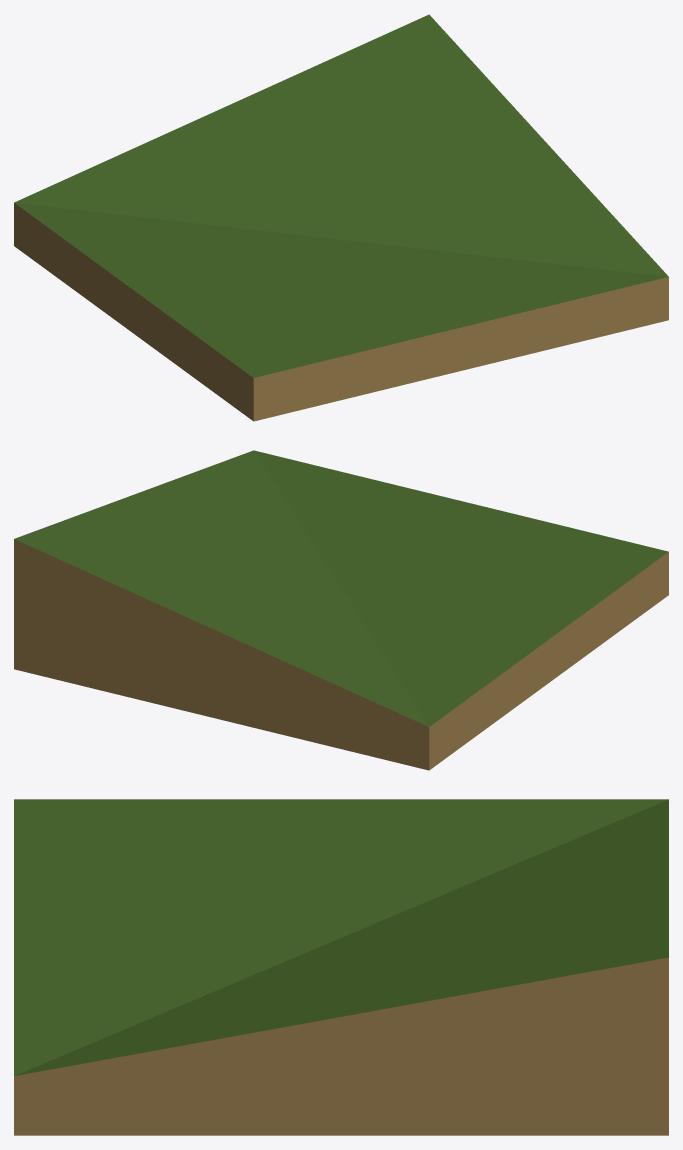
Rendered from Terrain_Modular_Tiles_Grass_Dirt_Ramp_Corner_Large_02.fbx.
3 renders of one model, top to bottom at view 1: azimuth 30°, elevation 25°; view 2: azimuth 150°, elevation 25°; view 3: azimuth 270°, elevation 25°, orthographic. The views are drawn at different scales.
Visible parts, largest first — view 1: Terrain_Modular_Tiles_Grass_Dirt_Ramp_Corner_Large_02; view 2: Terrain_Modular_Tiles_Grass_Dirt_Ramp_Corner_Large_02; view 3: Terrain_Modular_Tiles_Grass_Dirt_Ramp_Corner_Large_02.
Boxes of the visible parts, x1=… form: Terrain_Modular_Tiles_Grass_Dirt_Ramp_Corner_Large_02: x1=14, y1=14, x2=668, y2=421; Terrain_Modular_Tiles_Grass_Dirt_Ramp_Corner_Large_02: x1=14, y1=450, x2=668, y2=770; Terrain_Modular_Tiles_Grass_Dirt_Ramp_Corner_Large_02: x1=14, y1=799, x2=668, y2=1135.
Bounding box in the file's own units: 118 × 35.43 × 118.
